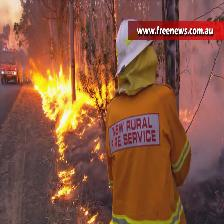fire: (28, 59, 105, 224), (107, 73, 115, 100)
